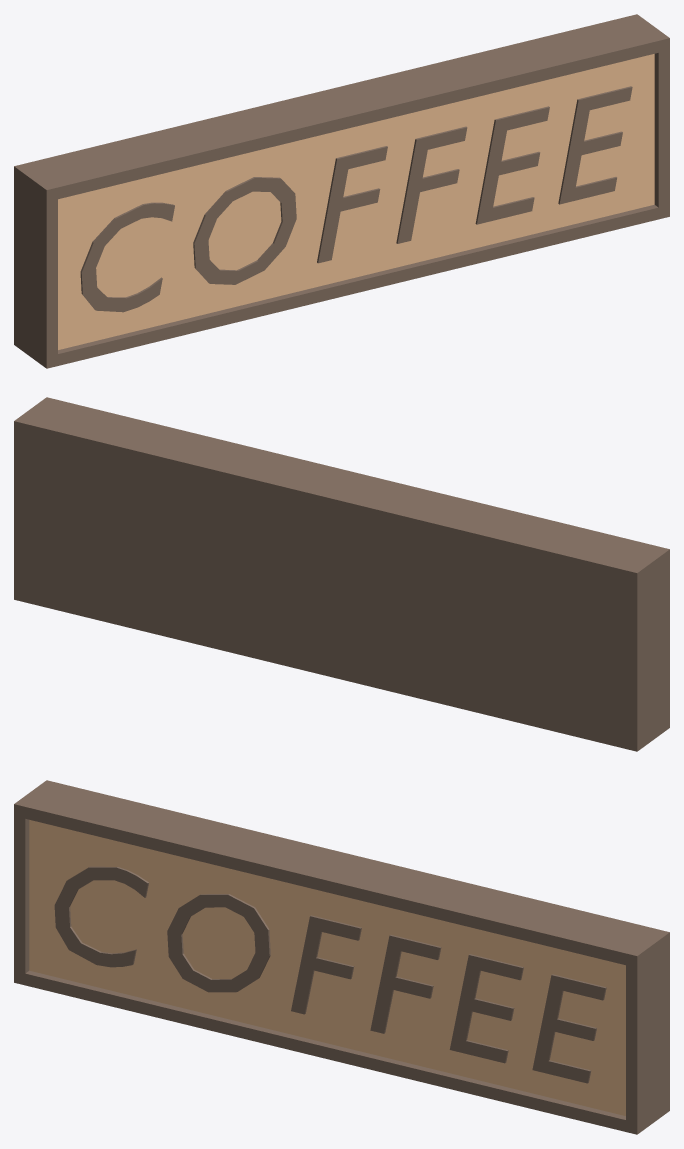
Rendered from Banner_03.fbx.
The picture shows the model from 3 angles, top to bottom: view 1: azimuth 30°, elevation 25°; view 2: azimuth 150°, elevation 25°; view 3: azimuth 330°, elevation 25°; orthographic projection.
Visible parts, largest first — view 1: Banner_03; view 2: Banner_03; view 3: Banner_03.
Boxes of the visible parts, x1,y1,x2,y2 form: Banner_03: (14,14,669,368); Banner_03: (14,397,669,751); Banner_03: (14,780,669,1134).
Bounding box in the file's own units: 308 × 84.34 × 28.01.
